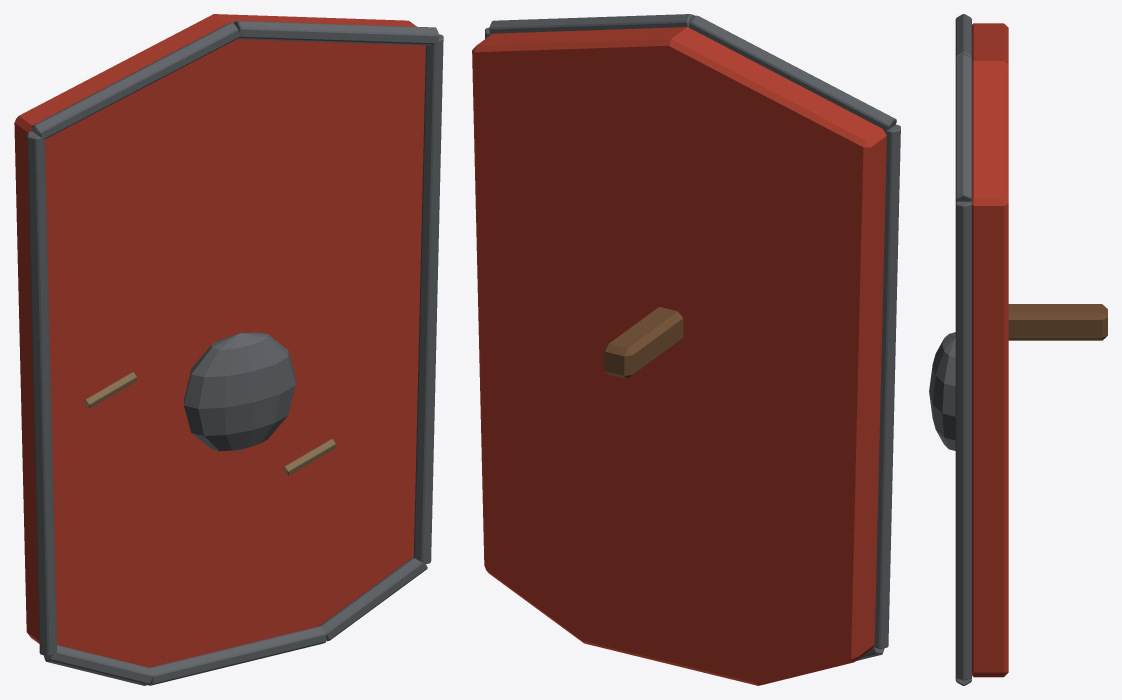
Rendered from runtime.glb.
The picture shows the model from 3 angles, left to right: view 1: azimuth 30°, elevation 25°; view 2: azimuth 150°, elevation 25°; view 3: azimuth 270°, elevation 25°; orthographic projection. The views are drawn at different scales.
Visible parts, largest first — view 1: falkenwacht-wall-shield-v05_nocol; view 2: falkenwacht-wall-shield-v05_nocol; view 3: falkenwacht-wall-shield-v05_nocol.
Boxes of the visible parts, x1,y1,x2,y2 form: falkenwacht-wall-shield-v05_nocol: (14,14,443,685); falkenwacht-wall-shield-v05_nocol: (472,14,900,685); falkenwacht-wall-shield-v05_nocol: (929,14,1107,685).
Bounding box in the file's own units: 1.56 × 2.31 × 0.6312.
